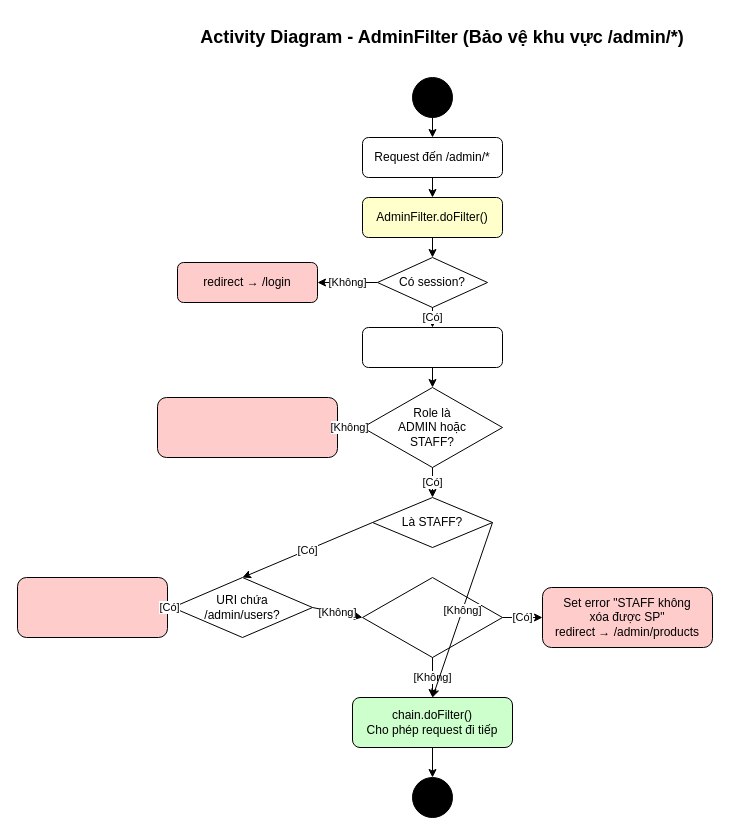
The diagram is 730 pixels wide and 835 high, and some of its shapes have lost their labels. Here are the shapes that lost their labels. From the top down, the box of each, then its label:
(362, 326, 502, 368): user = session.getAttribute(LOGIN_USER)
(156, 396, 338, 458): Set error "Vui lòng đăng nhập Admin" redirect → /login
(16, 576, 168, 638): Set error "STAFF không có quyền QL user" redirect → /admin/dashboard
(362, 576, 502, 658): URI chứa /admin/products && action=delete?
